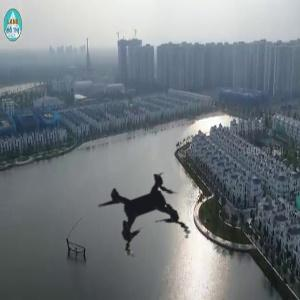drone: (72, 137, 223, 288)
